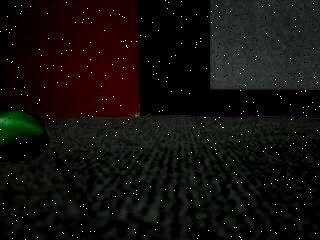Lime: (0, 105, 53, 164)
